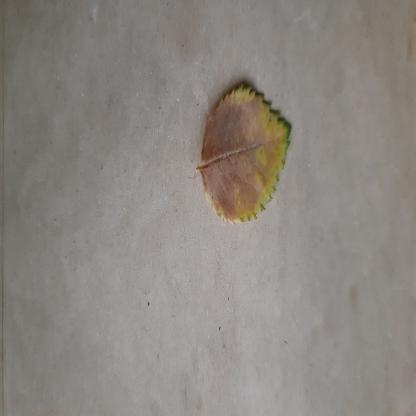black-spot: (200, 82, 294, 226)
